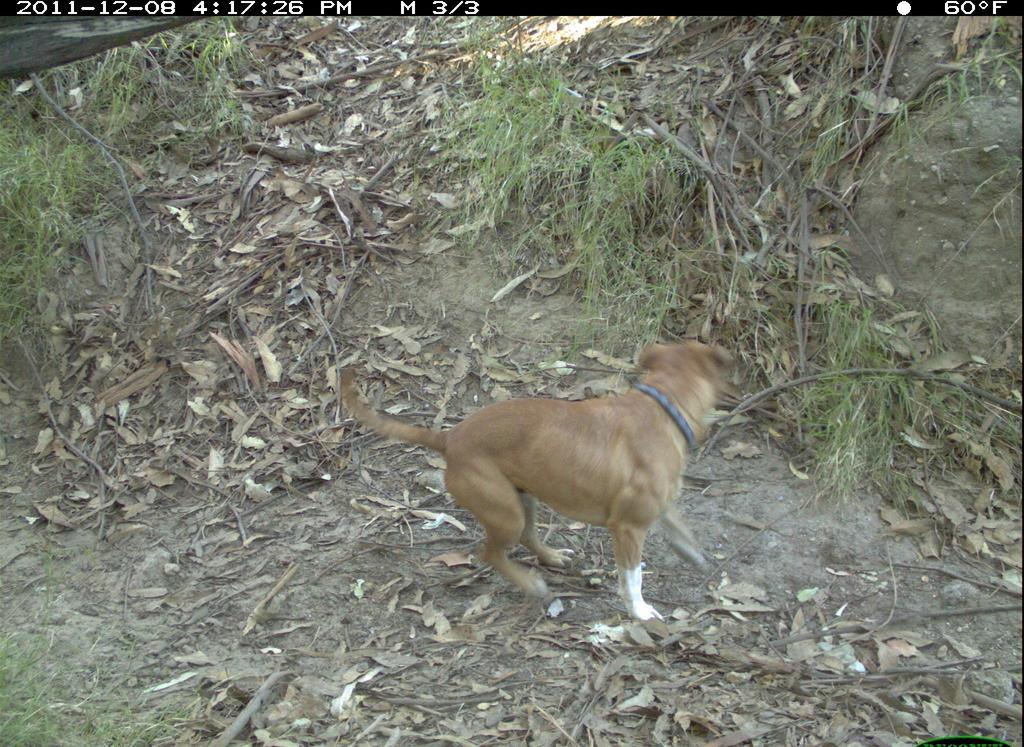dog: (328, 317, 749, 637)
